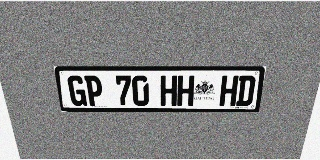0: (132, 76, 149, 106)
7: (114, 76, 132, 106)
D: (236, 76, 256, 106)
G: (67, 76, 87, 106)
H: (219, 76, 239, 106), (177, 76, 195, 106), (160, 76, 177, 106)
P: (84, 76, 104, 106)
